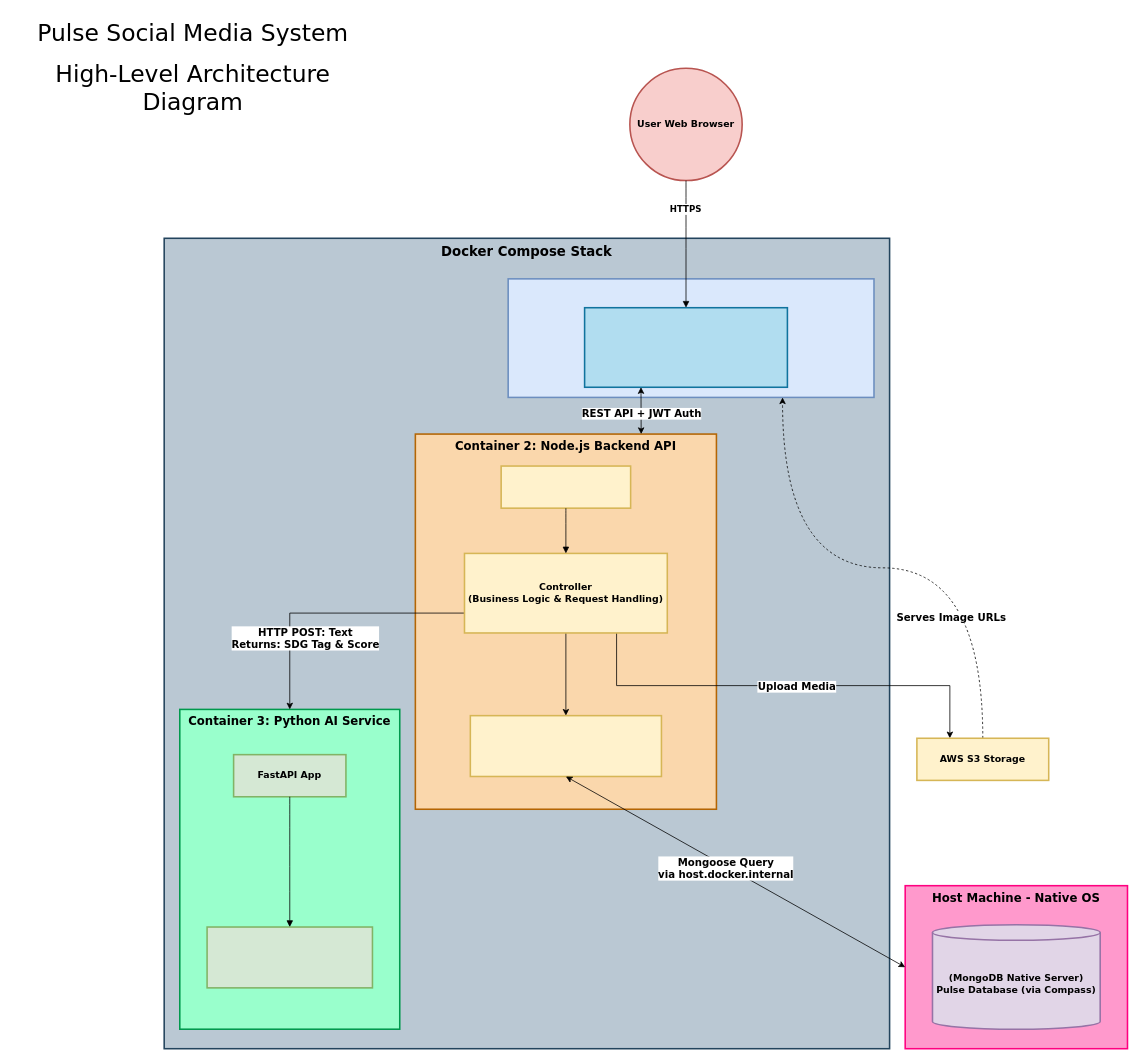
The diagram is 1141 pixels wide and 1062 high, and some of its shapes have lost their labels. The box of each missing label's shape, as (x1, y1, x2, y2) in pixels:
Container 1: React Frontend: (507, 278, 874, 398)
Express Routes: (500, 465, 631, 509)
Hugging Face BART (Zero-Shot Classifier): (206, 926, 373, 988)
Model (Mongoose Data Schemas): (469, 714, 662, 777)
View (React SPA Components & UI): (583, 307, 788, 388)
